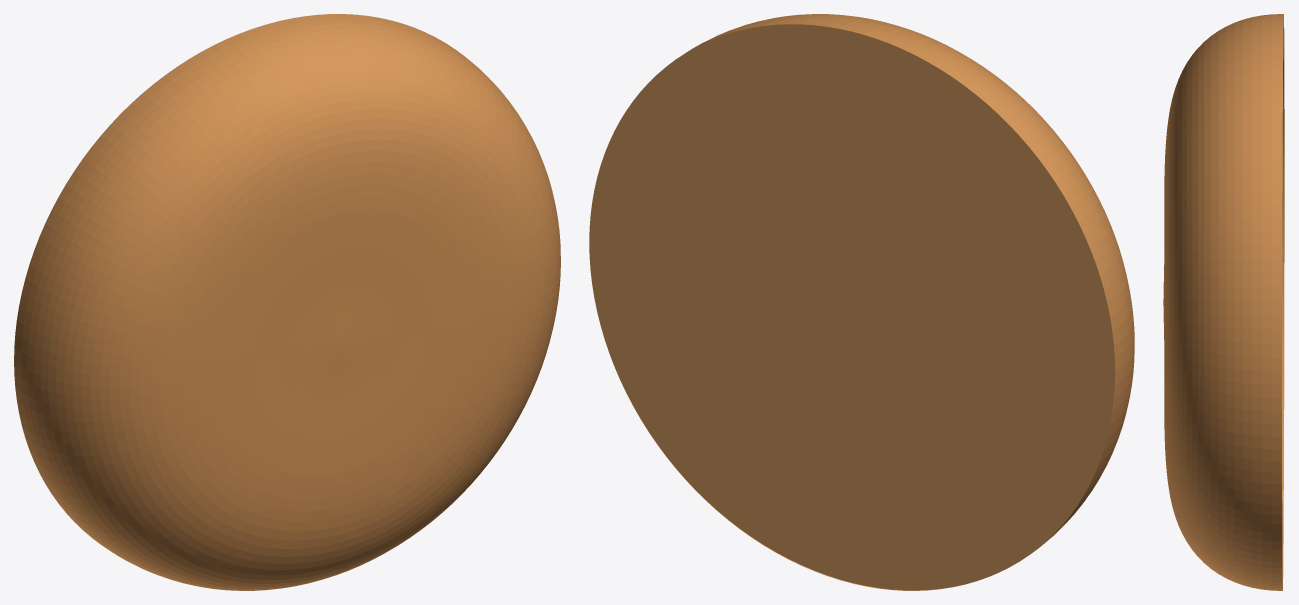
File: bun_bottom.fbx
The picture shows the model from 3 angles, left to right: view 1: azimuth 30°, elevation 25°; view 2: azimuth 150°, elevation 25°; view 3: azimuth 270°, elevation 25°; orthographic projection. The views are drawn at different scales.
Visible parts, largest first — view 1: Sphere.004; view 2: Sphere.004; view 3: Sphere.004.
Boxes of the visible parts, x1=… form: Sphere.004: x1=14, y1=14, x2=560, y2=590; Sphere.004: x1=589, y1=14, x2=1134, y2=590; Sphere.004: x1=1163, y1=14, x2=1284, y2=590.
Size of the model in its own units: 149 by 712 by 712.
1 material, 1 textured.
